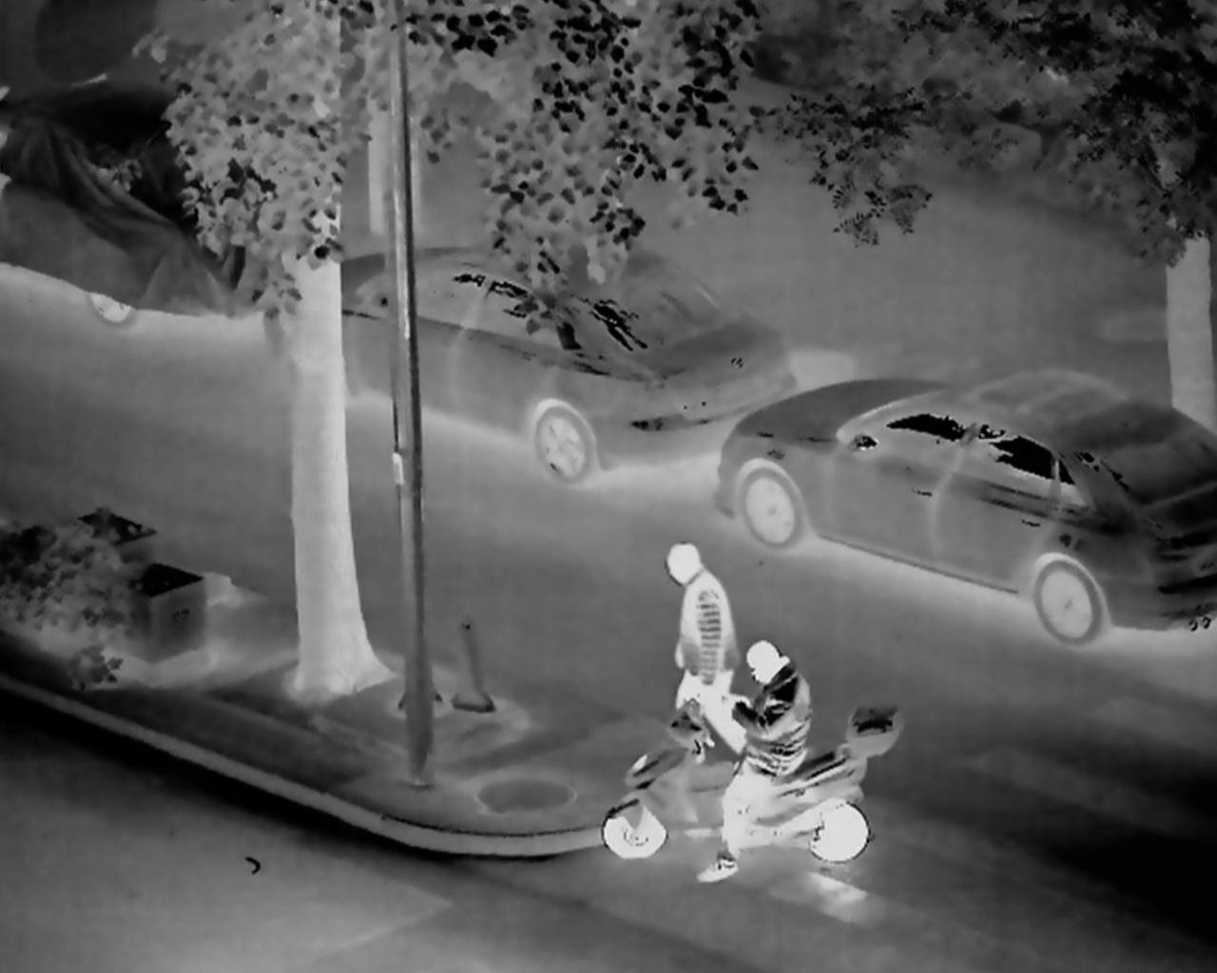person: (704, 622, 805, 882), (643, 537, 752, 766)
